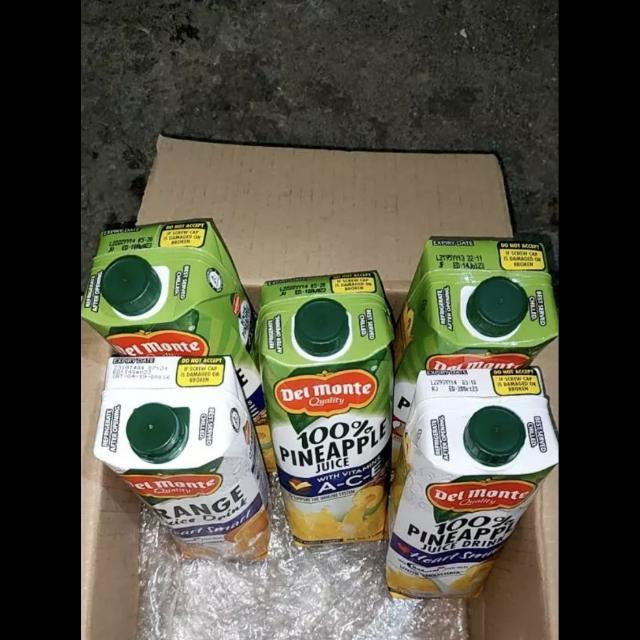cardboard: (140, 138, 516, 327), (81, 312, 145, 640), (470, 465, 559, 640)
